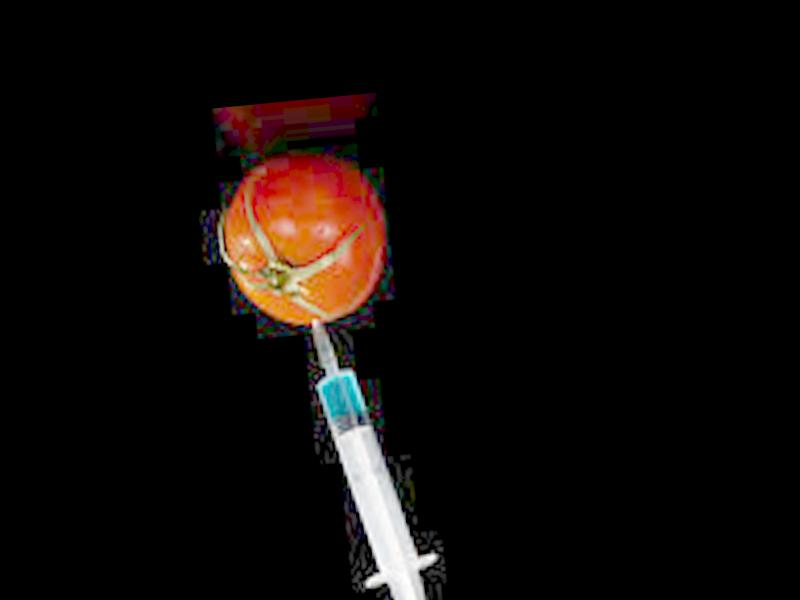Tomato: (213, 154, 394, 333)
